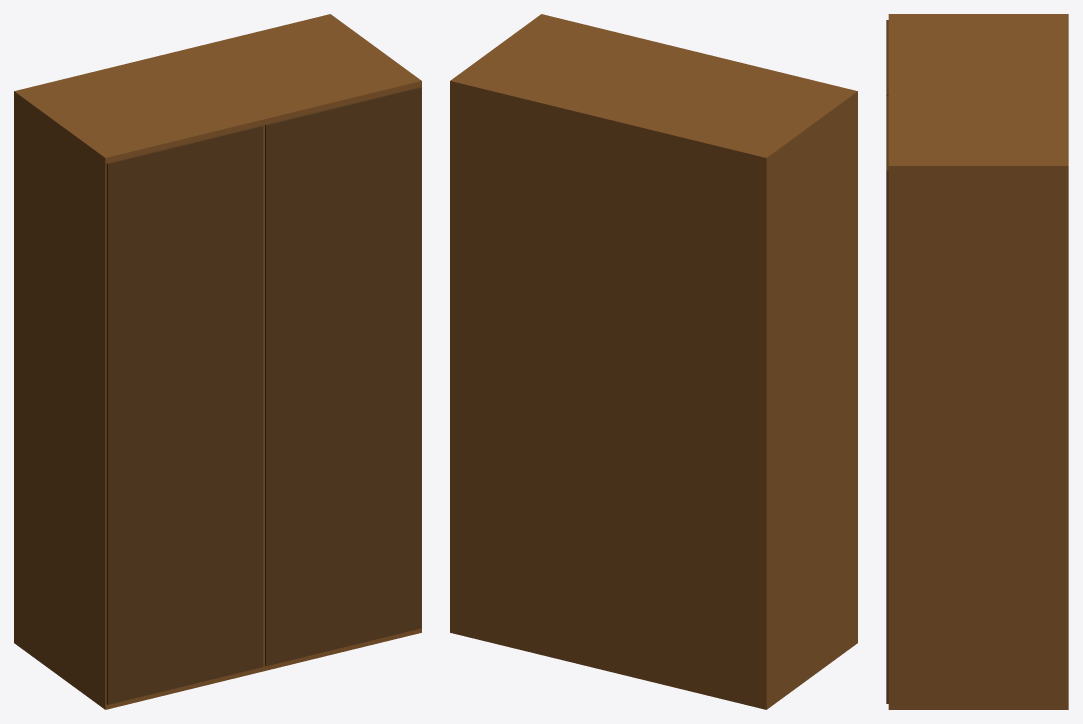
File: wardrobe.glb
The picture shows the model from 3 angles, left to right: view 1: azimuth 30°, elevation 25°; view 2: azimuth 150°, elevation 25°; view 3: azimuth 270°, elevation 25°; orthographic projection.
Bounding box in the file's own units: 120 × 200 × 60.75.
